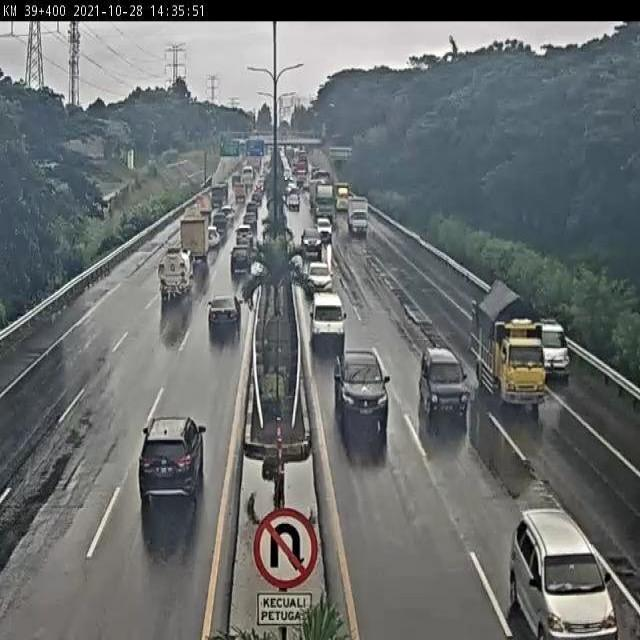big truck: (311, 176, 337, 225)
car: (511, 505, 620, 640), (122, 409, 219, 522), (329, 344, 398, 439), (417, 343, 475, 425), (302, 285, 352, 347), (535, 316, 575, 381), (203, 296, 246, 352), (214, 243, 260, 280), (296, 253, 338, 291), (231, 227, 266, 250), (313, 209, 333, 239), (299, 222, 324, 246), (206, 223, 223, 248), (285, 192, 302, 213)
small truck: (476, 293, 549, 419), (149, 253, 193, 308), (172, 215, 208, 268), (345, 193, 371, 246), (335, 182, 351, 210)
